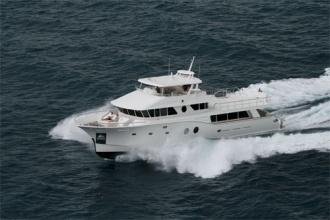yacht: (82, 64, 293, 161)
